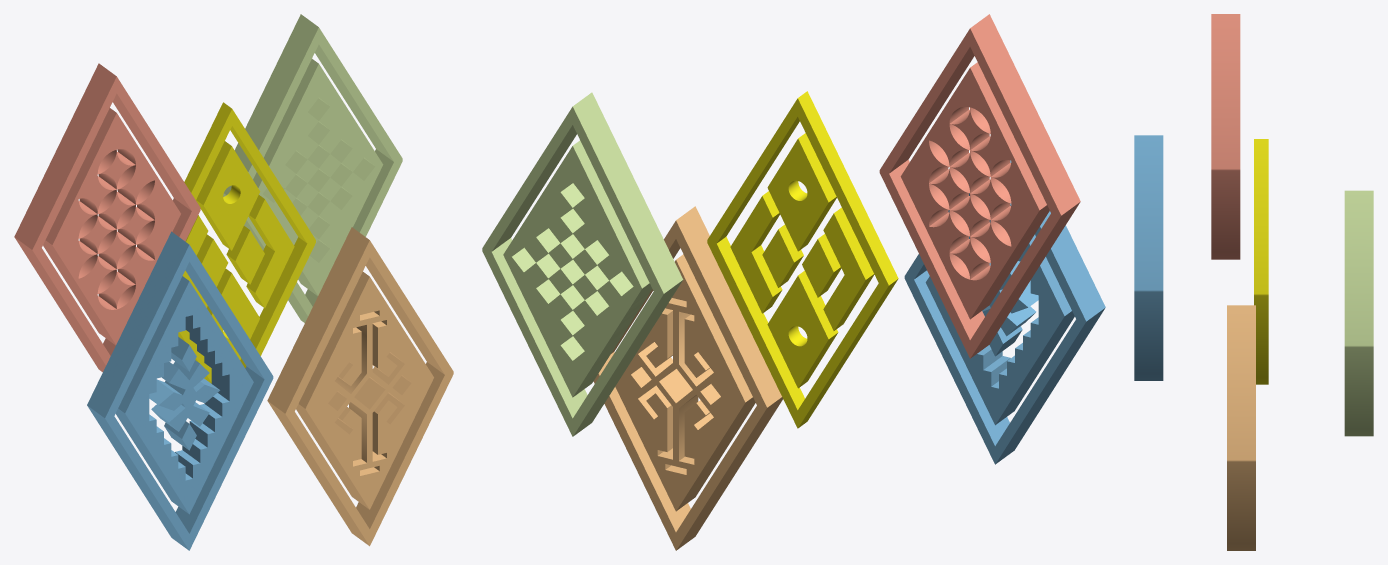
File: diamond.gltf
3 views of the same model, side by side, from view 1: azimuth 30°, elevation 25°; view 2: azimuth 150°, elevation 25°; view 3: azimuth 270°, elevation 25° (orthographic). The views are drawn at different scales.
Visible parts, largest first — view 1: Asset 2, Asset 5, Asset 6, Asset 4, Asset 3; view 2: Asset 4, Asset 6, Asset 3, Asset 2, Asset 5; view 3: Asset 4, Asset 6, Asset 5, Asset 2, Asset 3.
Part boxes in pixels (<box>): Asset 2: <box>267,227,453,546</box>; Asset 5: <box>87,231,273,550</box>; Asset 6: <box>14,63,200,372</box>; Asset 4: <box>223,14,402,322</box>; Asset 3: <box>178,102,315,383</box>; Asset 4: <box>482,92,683,436</box>; Asset 6: <box>879,14,1080,358</box>; Asset 3: <box>707,91,898,428</box>; Asset 2: <box>593,206,782,550</box>; Asset 5: <box>904,160,1105,464</box>; Asset 4: <box>1344,190,1373,436</box>; Asset 6: <box>1211,14,1240,259</box>; Asset 5: <box>1134,135,1163,380</box>; Asset 2: <box>1227,305,1255,550</box>; Asset 3: <box>1254,139,1268,384</box>.
Bounding box in the file's own units: 290 × 331 × 165.
